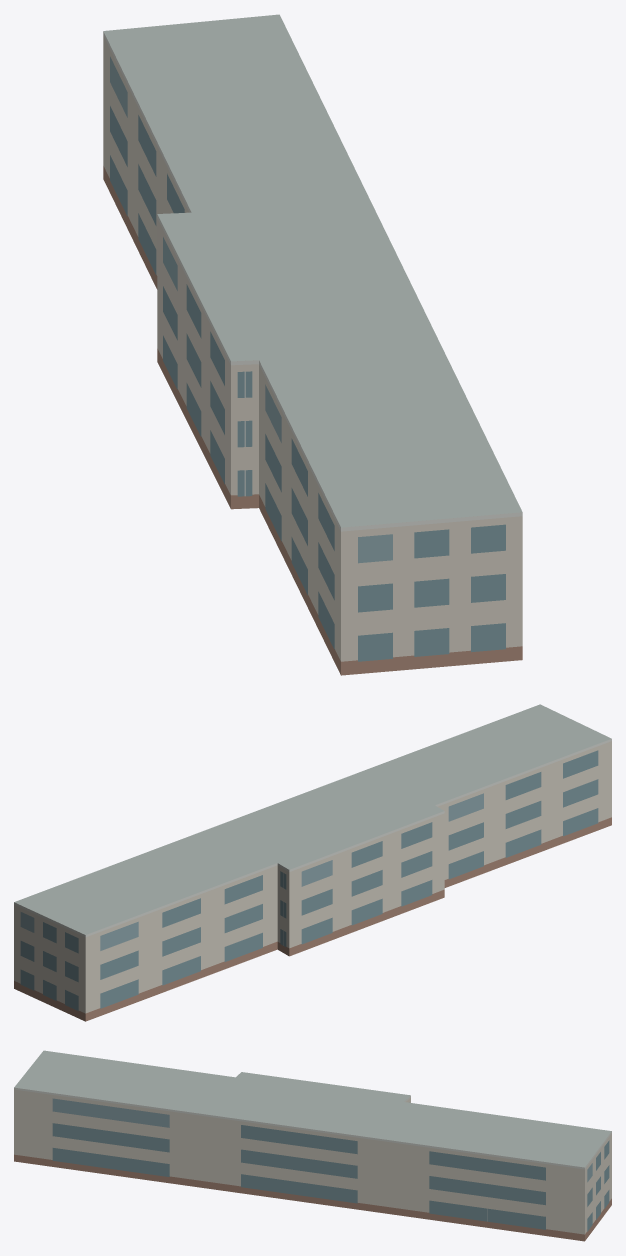
Rendered from survey-upis-32922392.glb.
3 renders of one model, top to bottom at view 1: azimuth 30°, elevation 25°; view 2: azimuth 150°, elevation 25°; view 3: azimuth 270°, elevation 25°, orthographic. The views are drawn at different scales.
Parts seen in each view (by area): view 1: survey-upis-32922392.tmp; view 2: survey-upis-32922392.tmp; view 3: survey-upis-32922392.tmp.
Part boxes in pixels (x1=…): survey-upis-32922392.tmp: x1=103, y1=14, x2=522, y2=675; survey-upis-32922392.tmp: x1=14, y1=704, x2=611, y2=1021; survey-upis-32922392.tmp: x1=14, y1=1050, x2=611, y2=1241.
Size of the model in its own units: 31.09 by 9.15 by 67.1.
